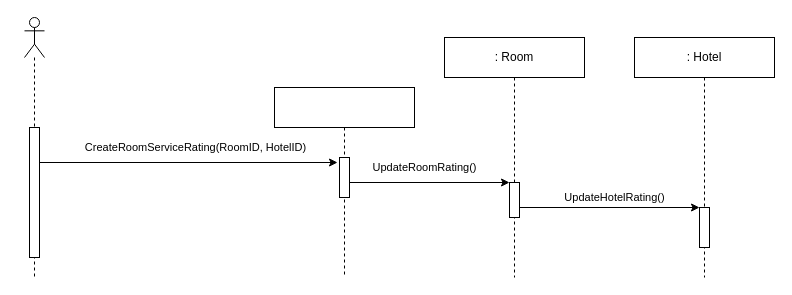
Some shapes in this 792 by 295 pixel diagram are drawn without their labels. The box of each missing label's shape, as (x1, y1, x2, y2) in pixels:
: RoomServiceRating: (274, 86, 414, 278)
Khách sử dụng phòng: (24, 16, 44, 278)
